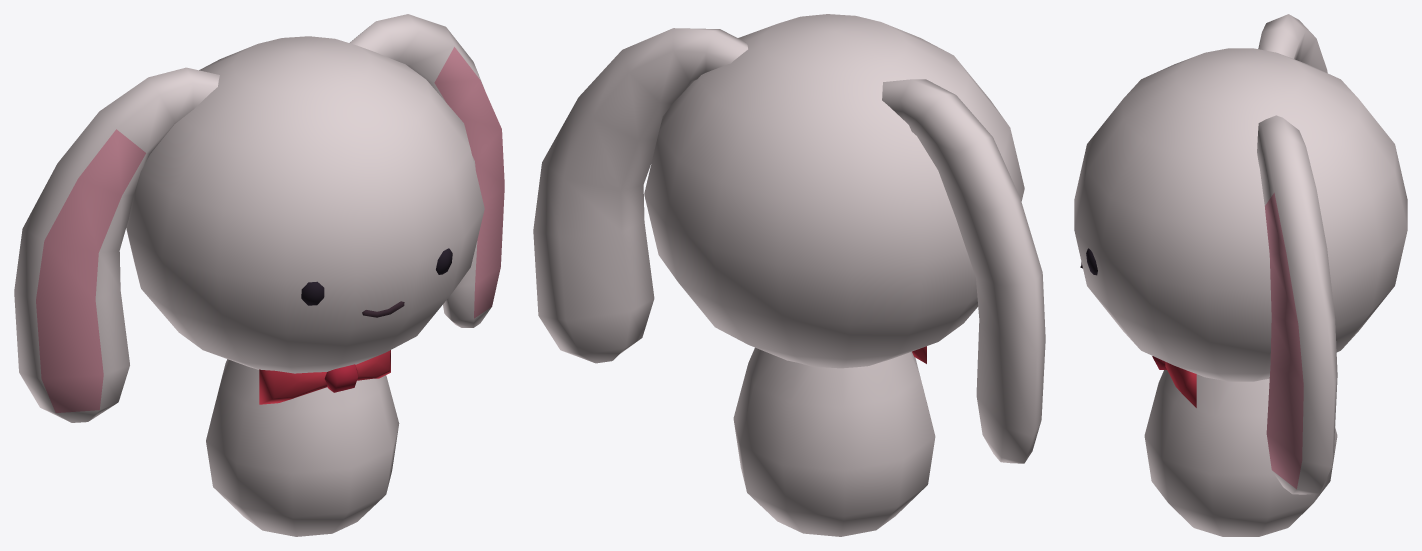
The model's file is Cosmetic_Bunny.glb.
The picture shows the model from 3 angles, left to right: view 1: azimuth 30°, elevation 25°; view 2: azimuth 150°, elevation 25°; view 3: azimuth 270°, elevation 25°; orthographic projection. The views are drawn at different scales.
Visible parts, largest first — view 1: Cosmetic_Bunny; view 2: Cosmetic_Bunny; view 3: Cosmetic_Bunny.
Boxes of the visible parts, left/top/right/bottom form: Cosmetic_Bunny: left=14, top=14, right=504, bottom=536; Cosmetic_Bunny: left=533, top=14, right=1045, bottom=536; Cosmetic_Bunny: left=1074, top=14, right=1407, bottom=536.
Bounding box in the file's own units: 0.6134 × 0.571 × 0.3766.
